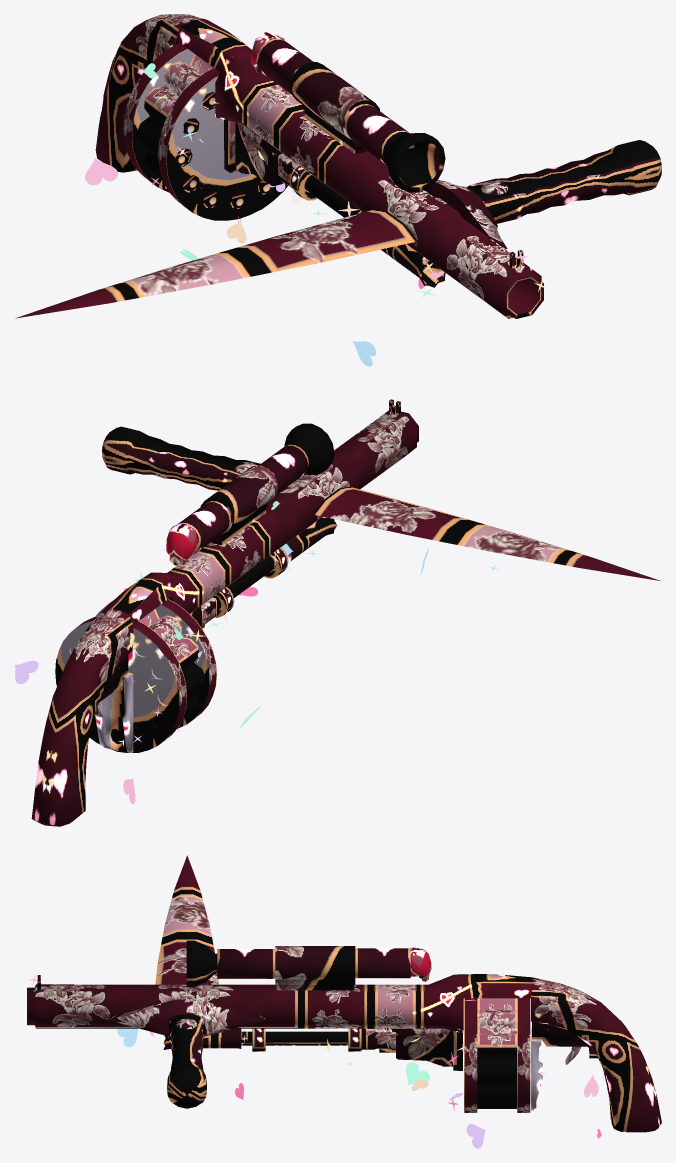
File: zombie_slayer_valentine.glb
3 views of the same model, one above another, from view 1: azimuth 30°, elevation 25°; view 2: azimuth 150°, elevation 25°; view 3: azimuth 270°, elevation 25° (orthographic). The views are drawn at different scales.
Visible parts, largest first — view 1: Zombie_Slayer, Model_Magazine, Model_Handle, fx_bigheart_1; view 2: Zombie_Slayer, Model_Magazine, Model_Handle; view 3: Zombie_Slayer, Model_Magazine, Model_Handle.
Boxes of the visible parts, x1=… form: Zombie_Slayer: x1=15, y1=14, x2=661, y2=318; Model_Magazine: x1=123, y1=43, x2=287, y2=220; Model_Handle: x1=304, y1=175, x2=445, y2=287; fx_bigheart_1: x1=85, y1=158, x2=117, y2=185; Zombie_Slayer: x1=31, y1=399, x2=661, y2=826; Model_Magazine: x1=55, y1=599, x2=216, y2=752; Model_Handle: x1=219, y1=517, x2=337, y2=608; Zombie_Slayer: x1=27, y1=855, x2=661, y2=1132; Model_Magazine: x1=464, y1=998, x2=530, y2=1112; Model_Handle: x1=163, y1=1028, x2=348, y2=1049.
Bounding box in the file's own units: 0.6585 × 0.2399 × 0.7521.
Materials: 9 (1 with a texture image).
